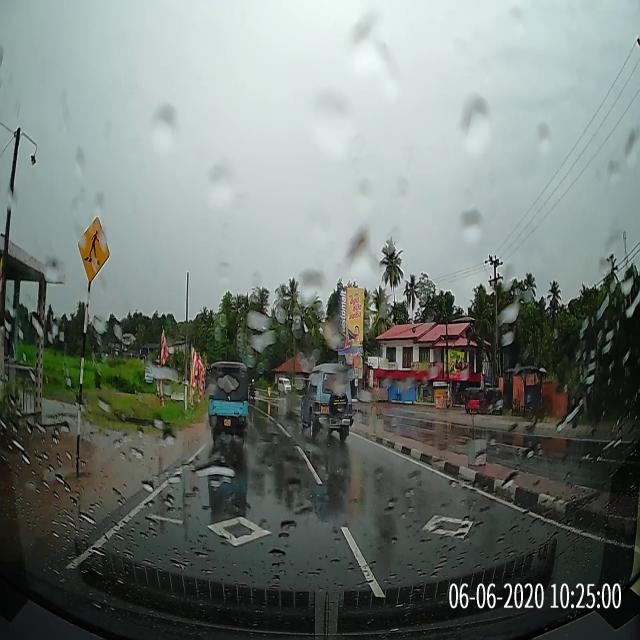diamond: (71, 497, 386, 595)
